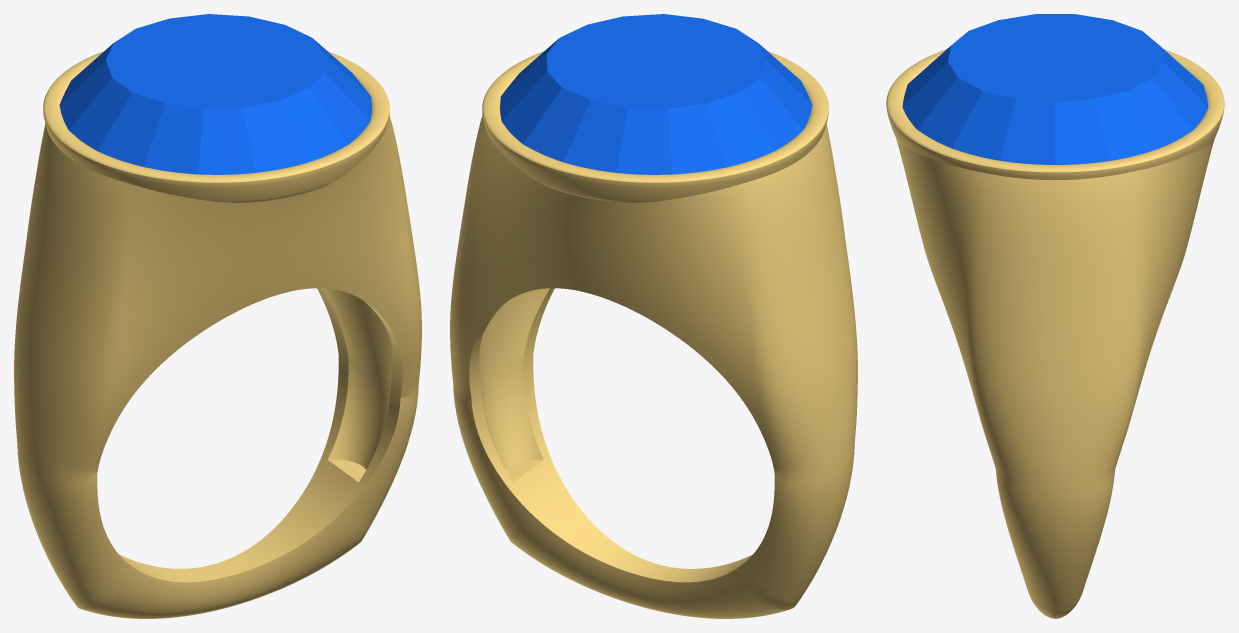
Rendered from LeslieSapph_blender.glb.
The picture shows the model from 3 angles, left to right: view 1: azimuth 30°, elevation 25°; view 2: azimuth 150°, elevation 25°; view 3: azimuth 270°, elevation 25°; orthographic projection. The views are drawn at different scales.
Visible parts, largest first — view 1: Leslie YG for 3d model, Leslie sapph for 3d model; view 2: Leslie YG for 3d model, Leslie sapph for 3d model; view 3: Leslie YG for 3d model, Leslie sapph for 3d model.
Part boxes in pixels (left/top/right/bottom): Leslie YG for 3d model: left=14, top=51, right=421, bottom=618; Leslie sapph for 3d model: left=59, top=14, right=371, bottom=174; Leslie YG for 3d model: left=450, top=51, right=857, bottom=618; Leslie sapph for 3d model: left=500, top=14, right=812, bottom=174; Leslie YG for 3d model: left=886, top=49, right=1224, bottom=618; Leslie sapph for 3d model: left=902, top=14, right=1208, bottom=164.
Size of the model in its own units: 21.95 by 30.34 by 17.6.
